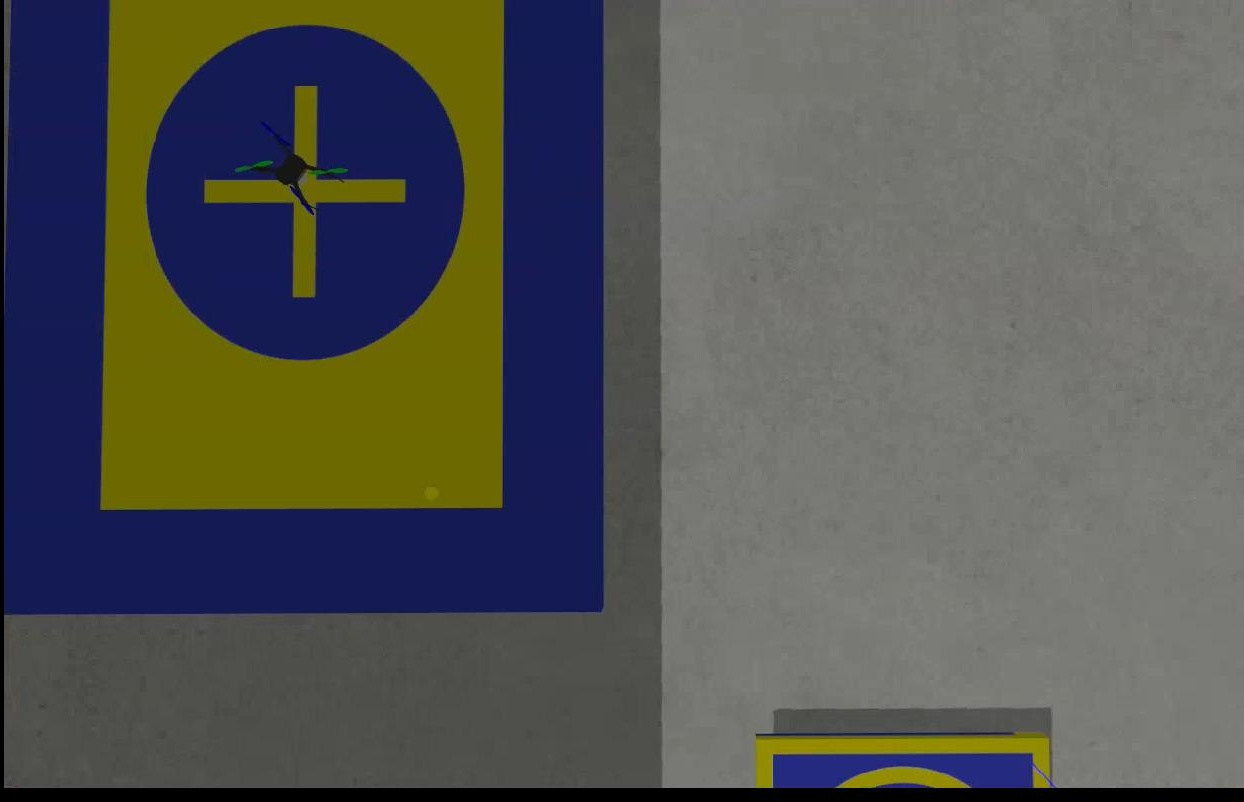large_base: (0, 1, 606, 613)
small_base: (753, 730, 1050, 792)
